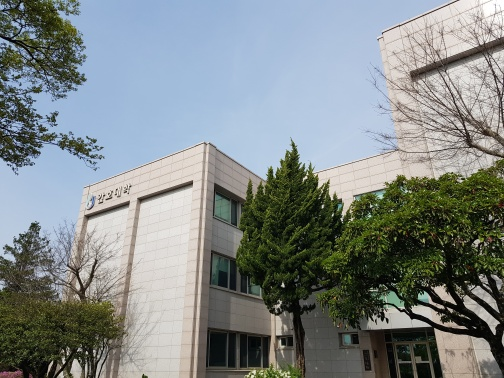College of Nursing: (60, 69, 488, 374), (79, 173, 135, 217)
